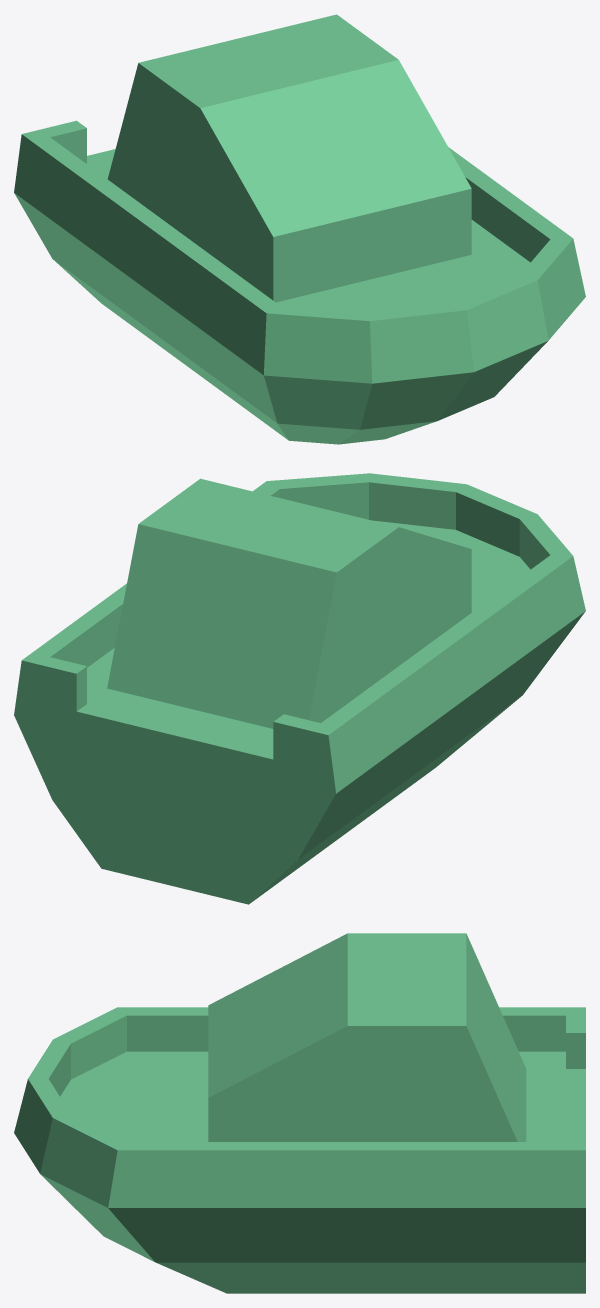
Rendered from watercraftpack_008.glb.
3 views of the same model, one above another, from view 1: azimuth 30°, elevation 25°; view 2: azimuth 150°, elevation 25°; view 3: azimuth 270°, elevation 25° (orthographic). The views are drawn at different scales.
Parts seen in each view (by area): view 1: Mesh1 Group1 Model; view 2: Mesh1 Group1 Model; view 3: Mesh1 Group1 Model.
Part boxes in pixels (box(x1,y1,x2,y2)): Mesh1 Group1 Model: box(14, 14, 585, 444); Mesh1 Group1 Model: box(14, 473, 585, 904); Mesh1 Group1 Model: box(14, 933, 585, 1293).
Bounding box in the file's own units: 1.78 × 1.55 × 2.87.
